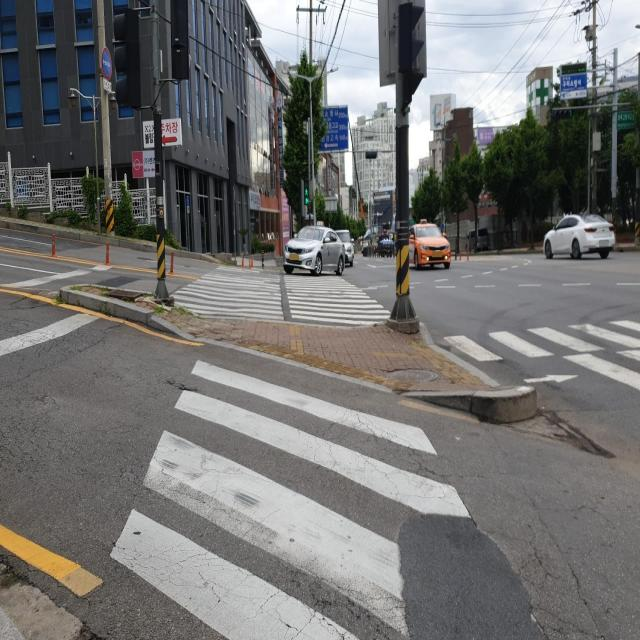횡단보도: (107, 352, 473, 640), (433, 318, 640, 396), (155, 262, 395, 322)
